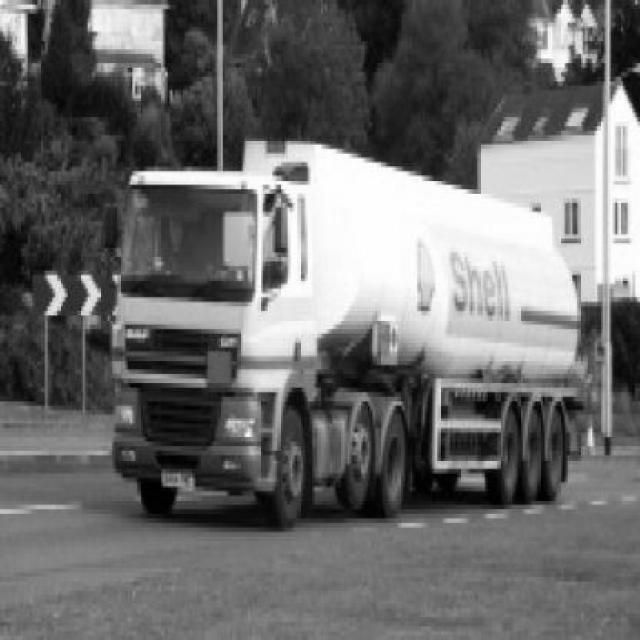Truck- Multi-Axle: (108, 139, 581, 533)
